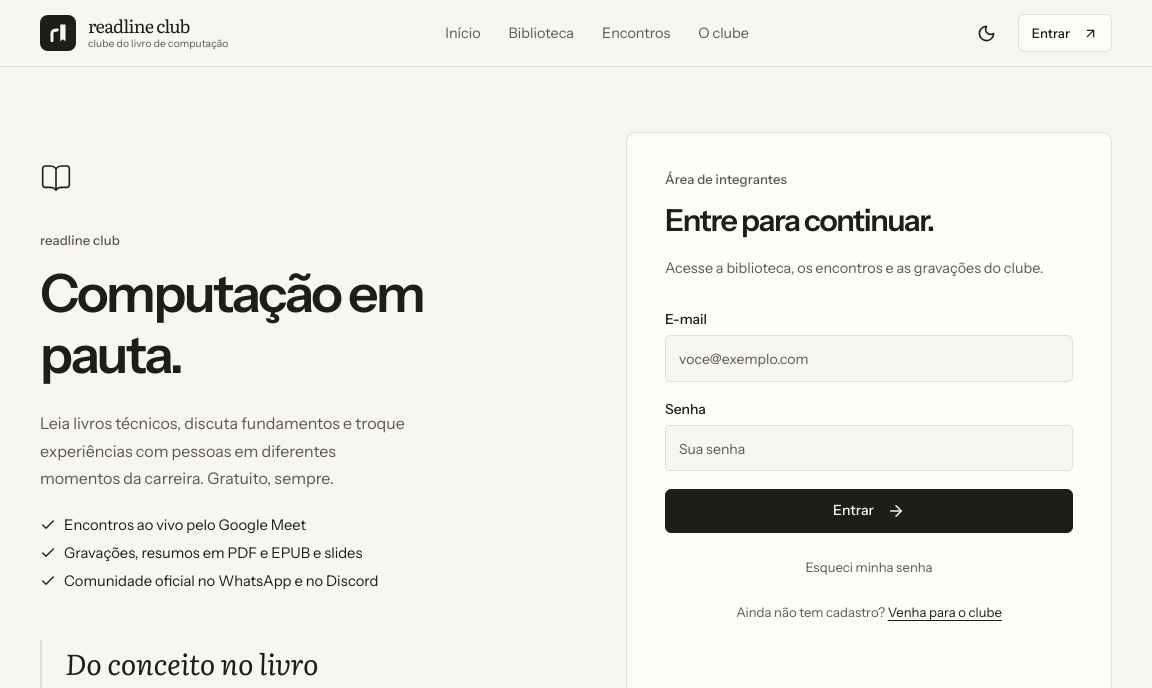
Test: moving from login to signup clears the previous form state
Click the link "Esqueci minha senha": (869, 567) [805,559,932,575]
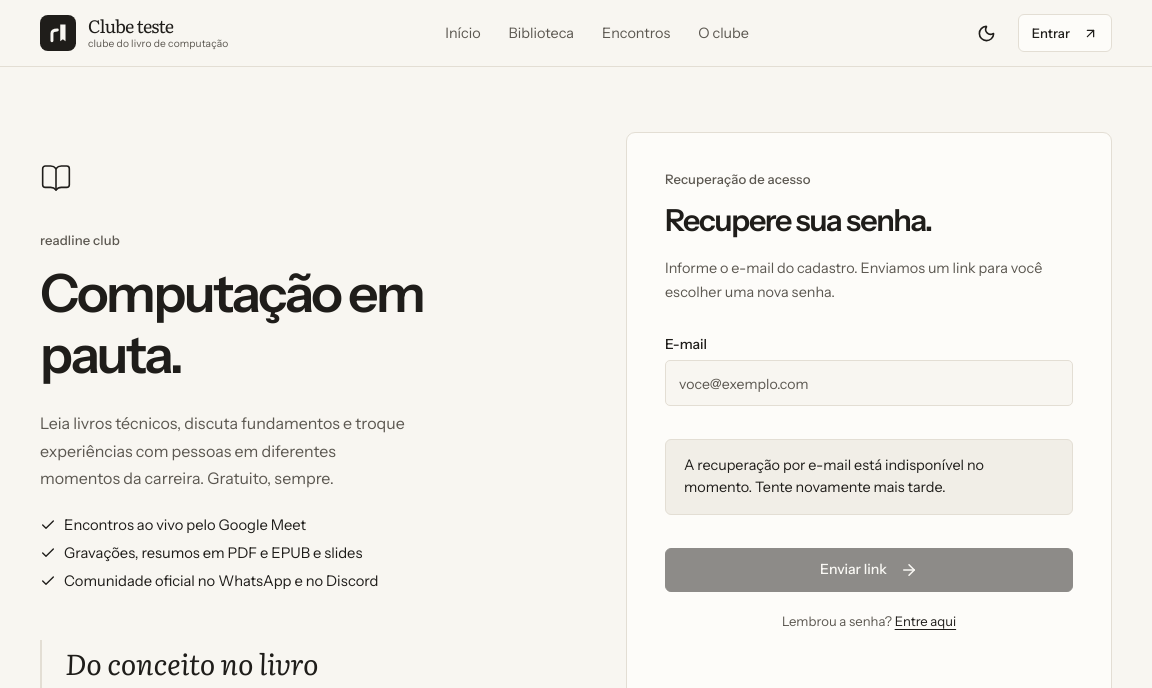
Expected: the heading "Recupere sua senha." is shown, [665,202,932,239]
Expected: the button "Enviar link" is disabled, [665,548,1073,592]
Click the link "Entre aqui": (925, 621) [895,613,956,629]
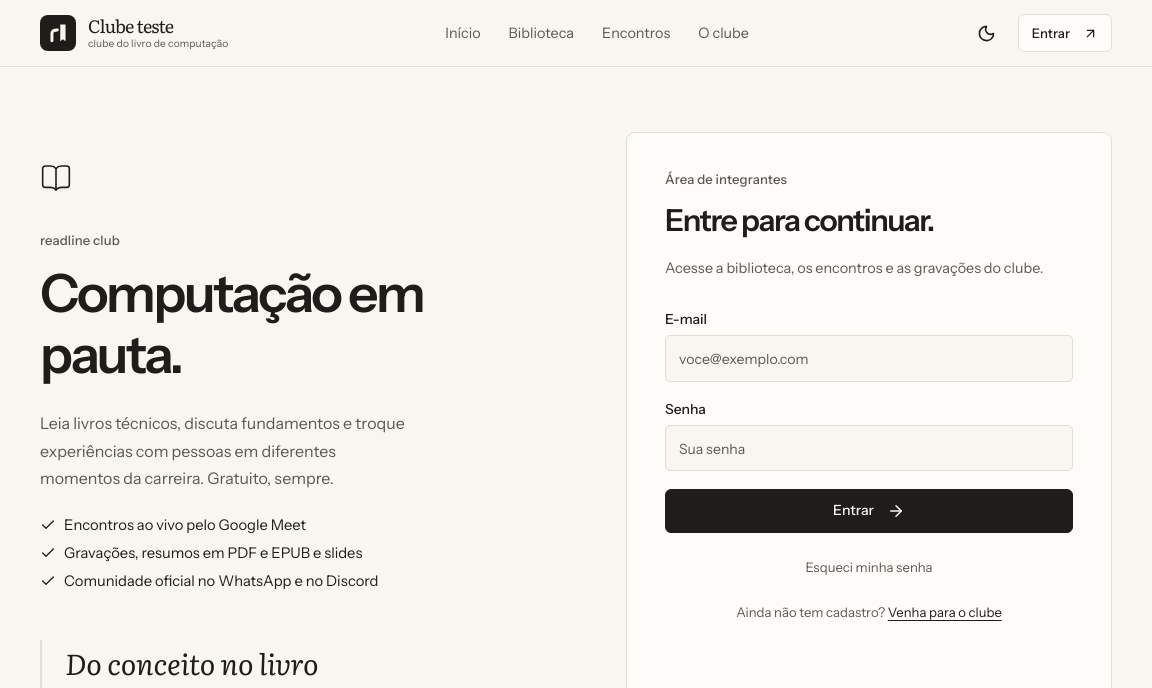
Click the link "Venha para o clube": (945, 612) [888,604,1002,620]
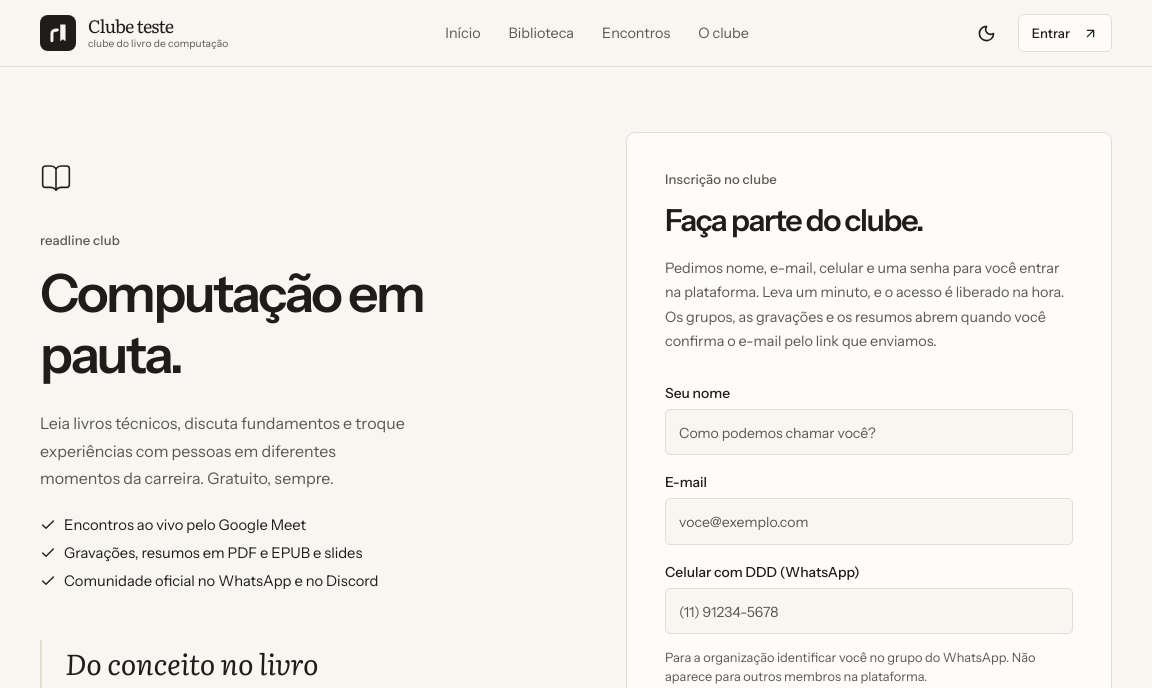
Expected: the heading "Faça parte do clube." is shown, [665,202,923,239]
